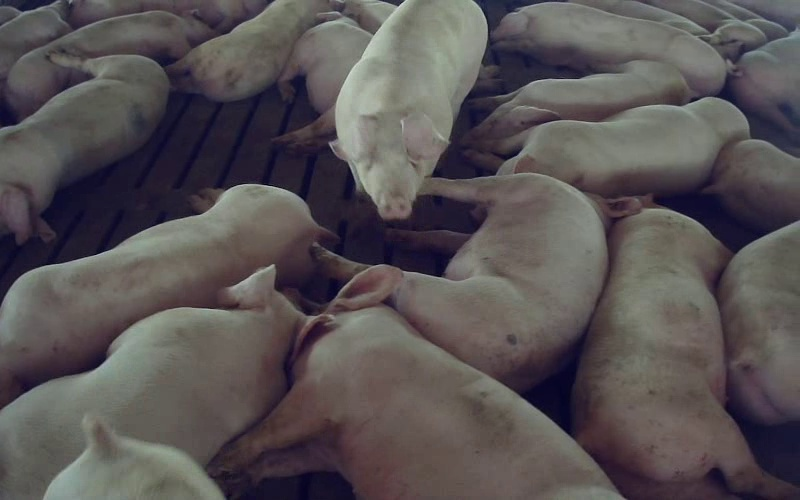pig: (211, 266, 619, 499), (0, 266, 332, 499), (0, 184, 334, 406), (573, 198, 799, 499), (389, 173, 641, 389), (0, 53, 168, 243), (463, 97, 749, 196), (5, 11, 213, 120), (491, 2, 725, 96), (464, 60, 691, 139), (718, 221, 799, 424), (272, 12, 371, 154), (703, 139, 799, 230)
